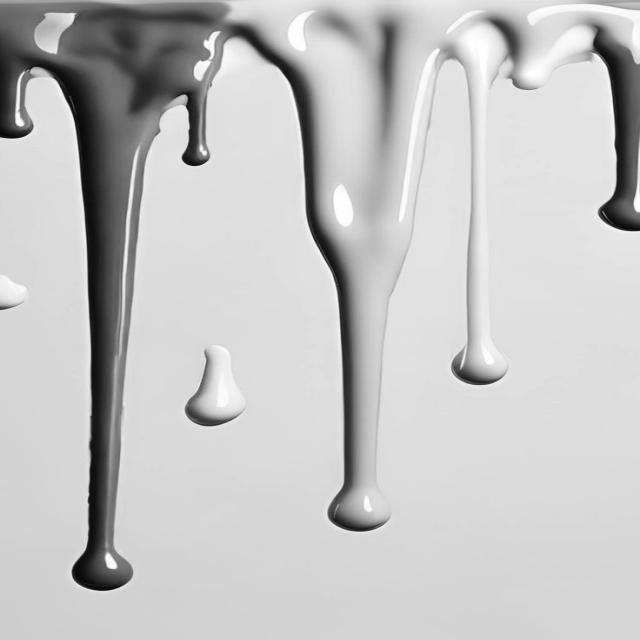paint drips: (0, 1, 640, 602)
